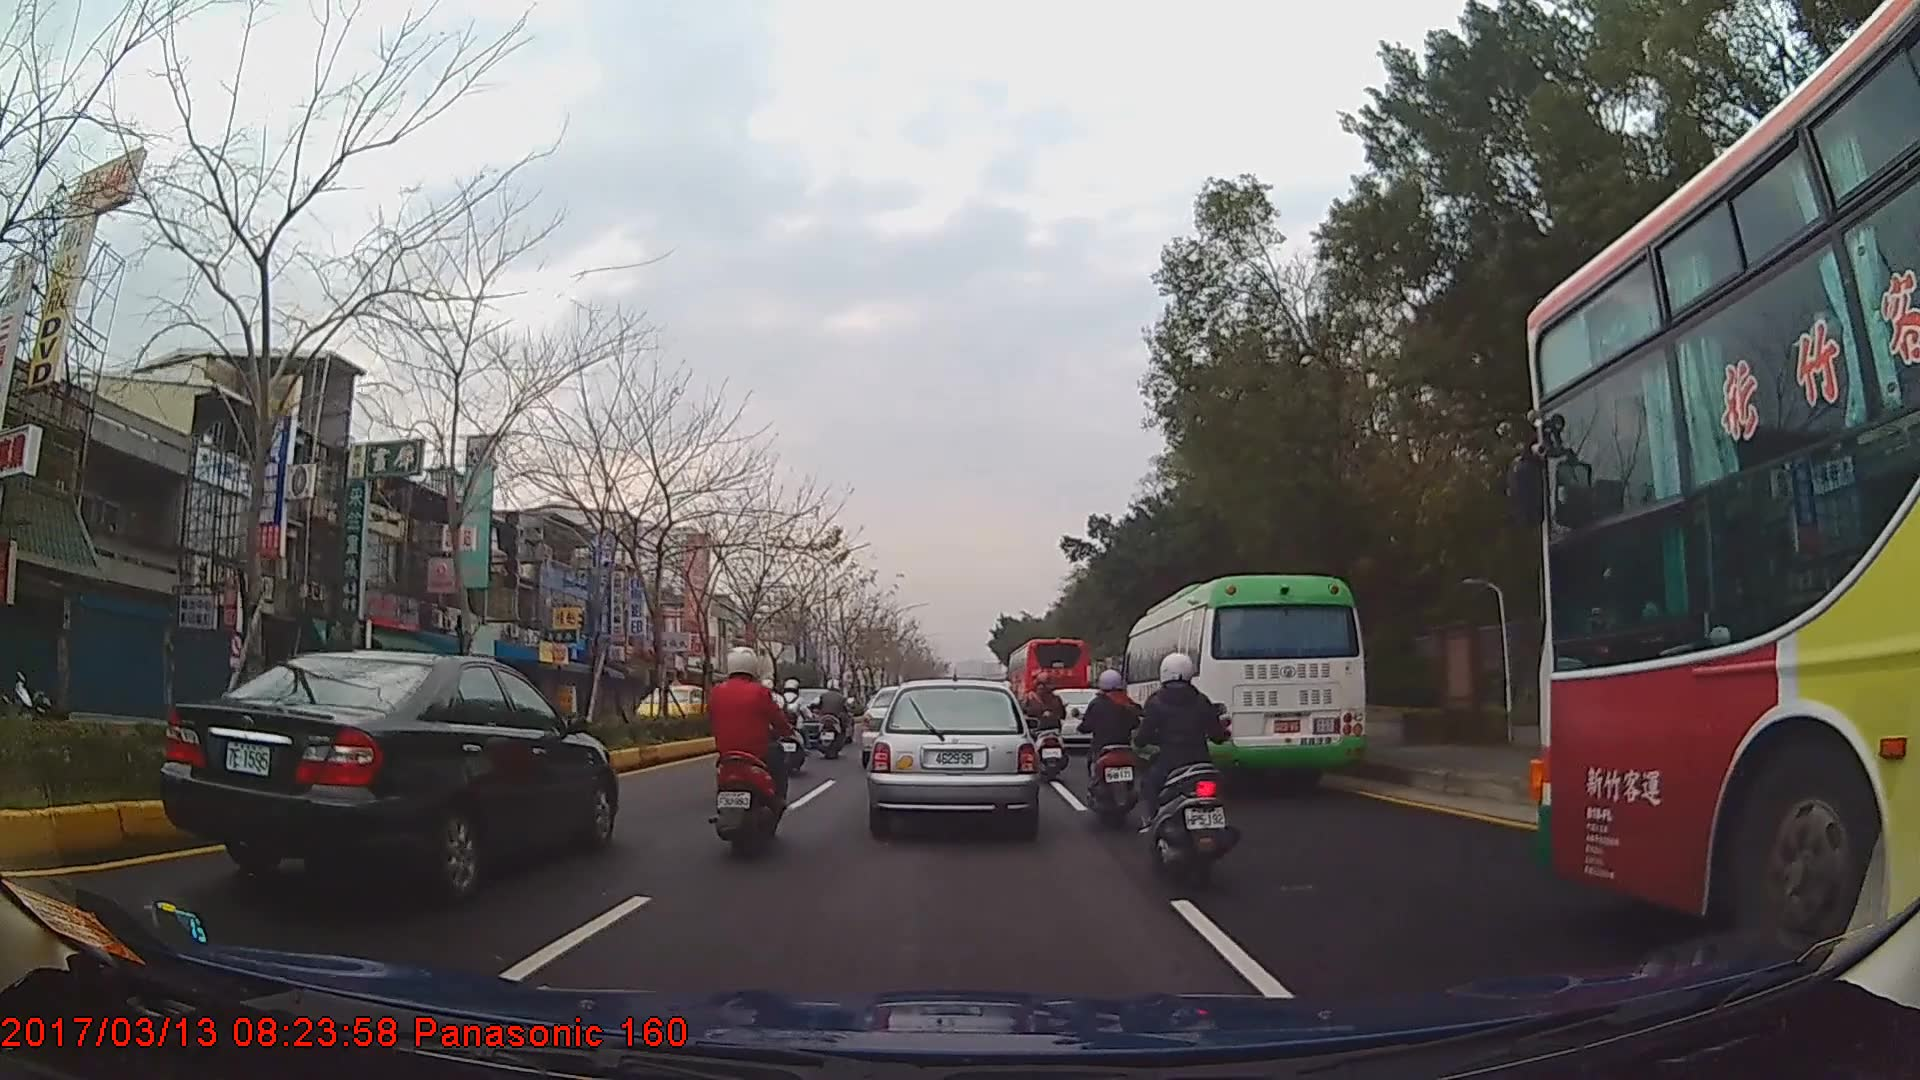rider: (1138, 649, 1242, 895), (700, 642, 786, 859), (1076, 664, 1146, 827), (1027, 669, 1071, 785), (774, 676, 815, 778), (819, 677, 858, 758), (755, 676, 796, 745)
vehicle: (1528, 0, 1919, 989), (155, 646, 619, 897), (1121, 574, 1368, 789), (866, 677, 1036, 835), (1006, 634, 1089, 729)
